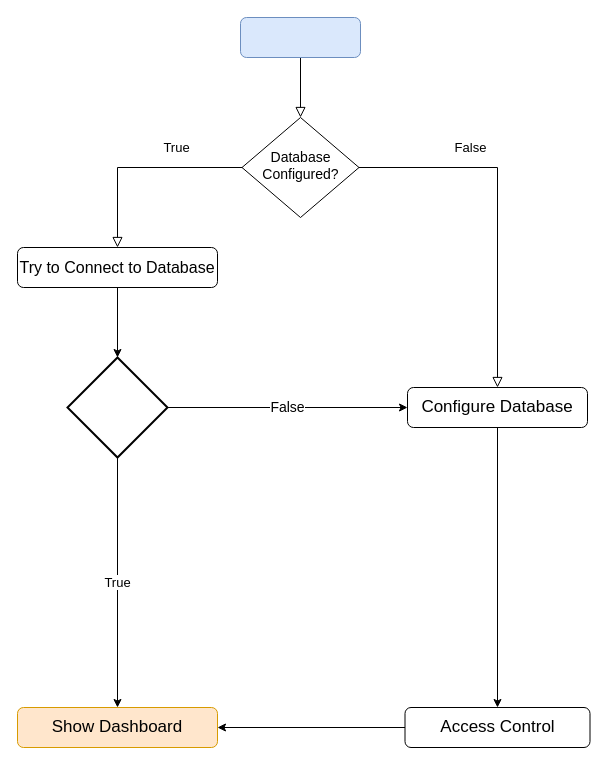
Image size: 608x765. Some labels were removed from this diagram. Each missing label, with the box of its shape:
Connected?: (66, 356, 168, 458)
Start: (240, 16, 360, 58)
